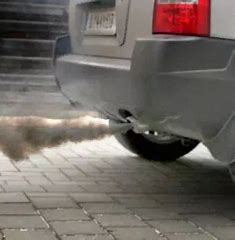smoke: (1, 117, 130, 162)
